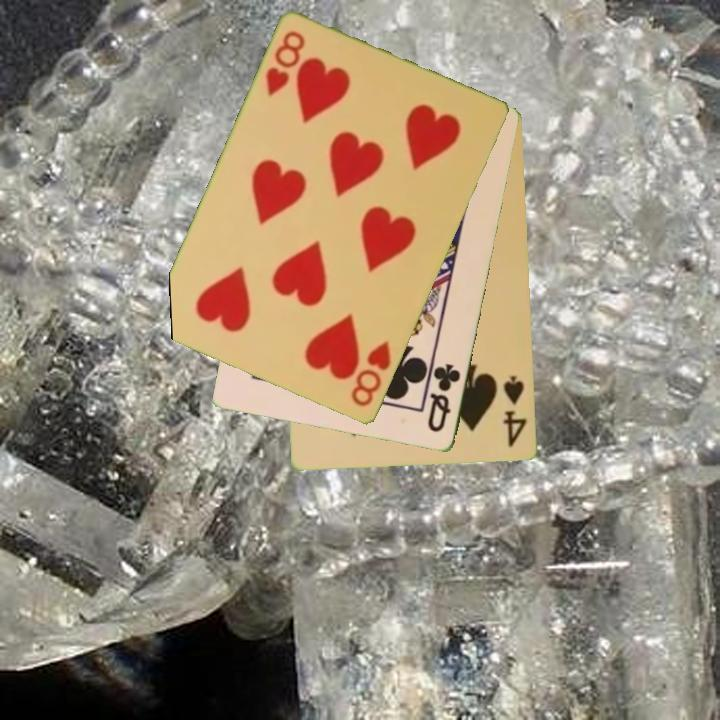4s: (500, 372, 530, 451)
8h: (347, 338, 394, 411), (262, 28, 308, 100)
Qc: (424, 360, 464, 436)
